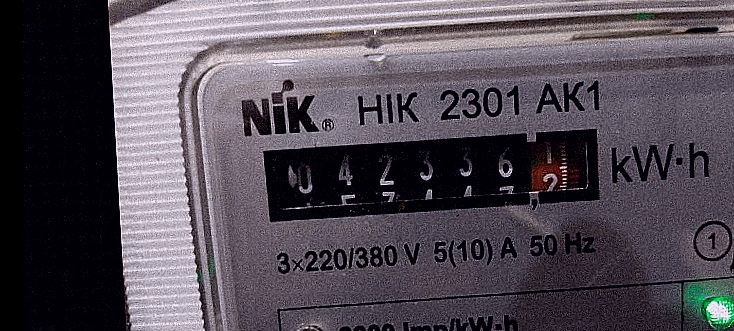0: (294, 159, 316, 195)
1: (541, 136, 555, 166)
2: (374, 150, 396, 187), (540, 170, 560, 192)
3: (415, 144, 436, 183), (453, 142, 475, 179)
4: (334, 149, 355, 187)
6: (492, 142, 516, 179)
screen: (254, 117, 611, 230)
